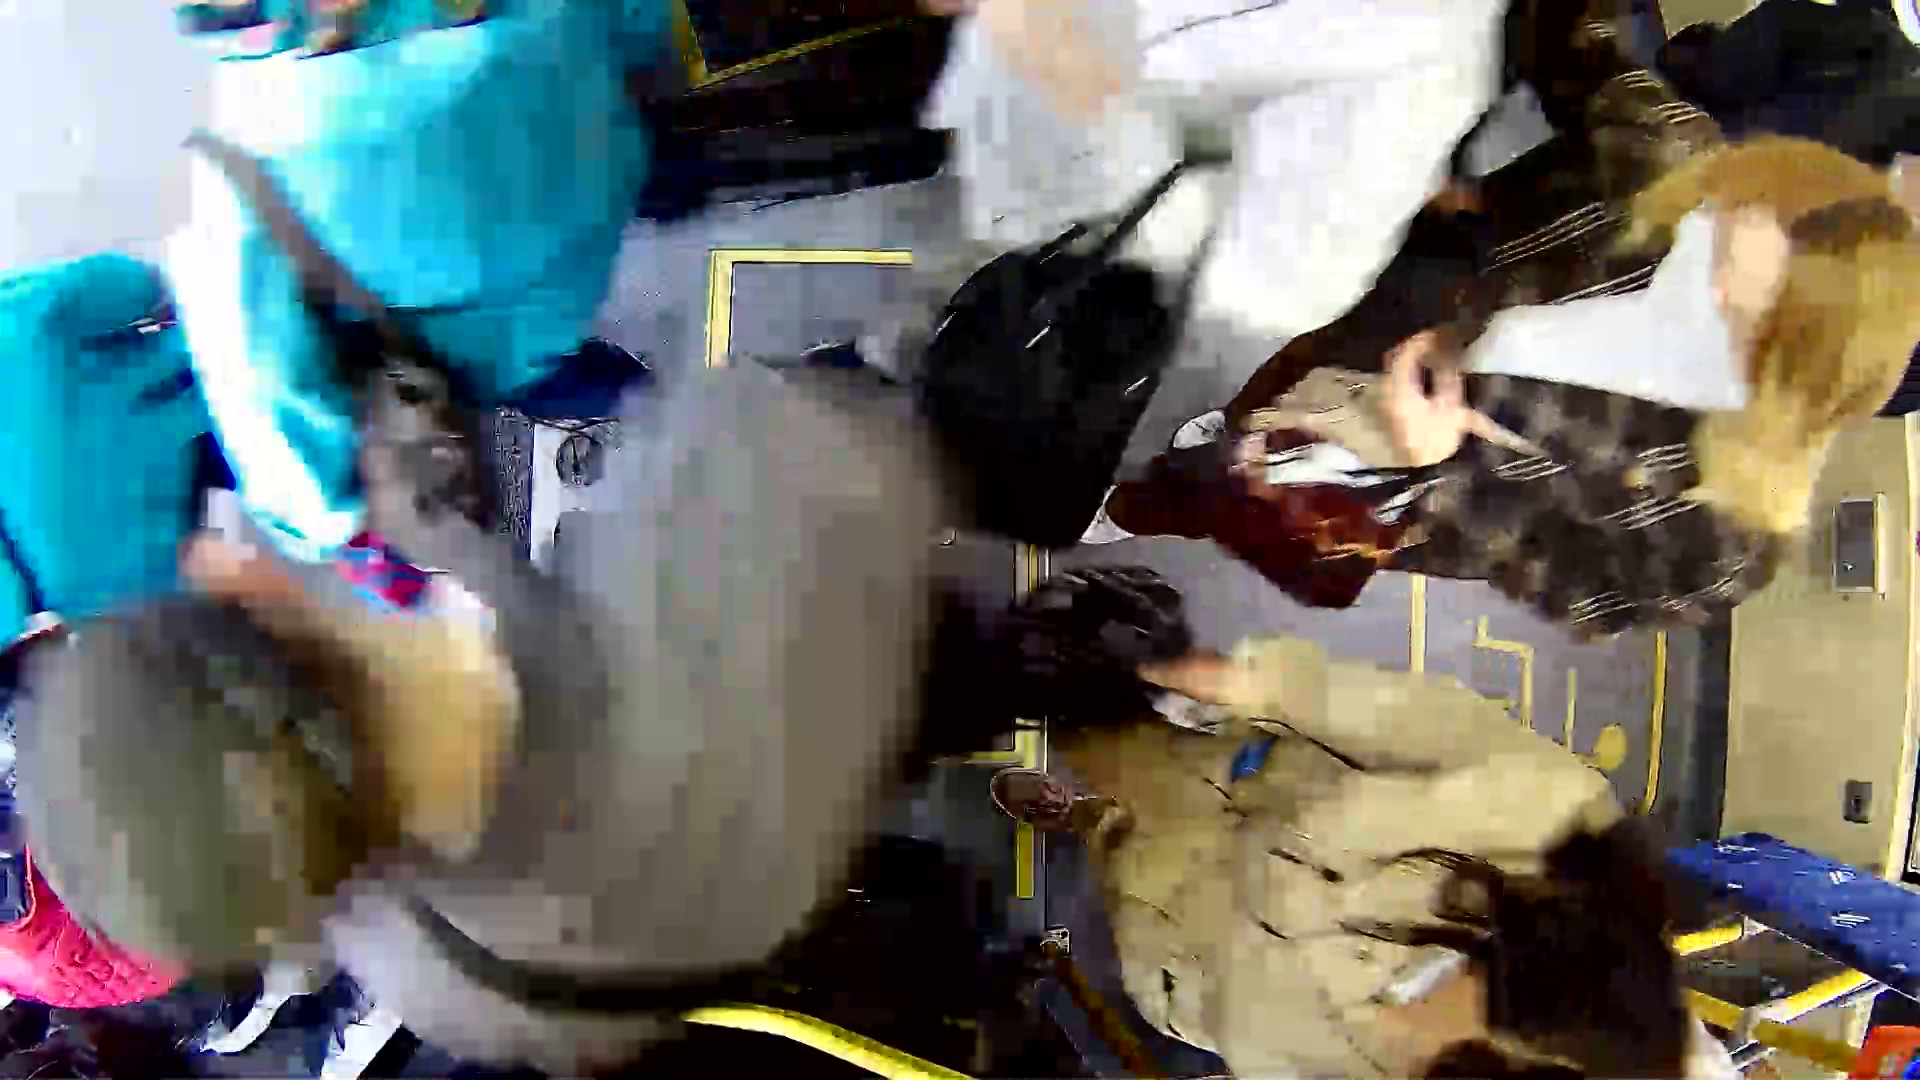person: (45, 374, 952, 1000), (947, 581, 1680, 1080), (1225, 63, 1891, 596)
